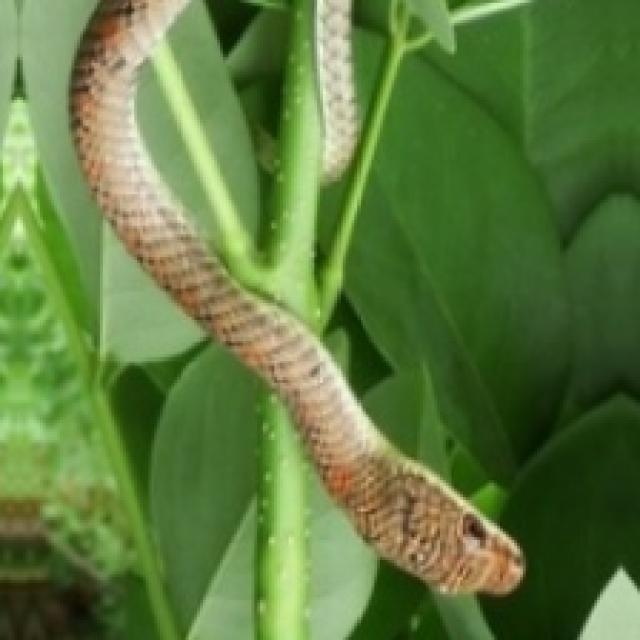paradise tree snake: (71, 0, 523, 591)
